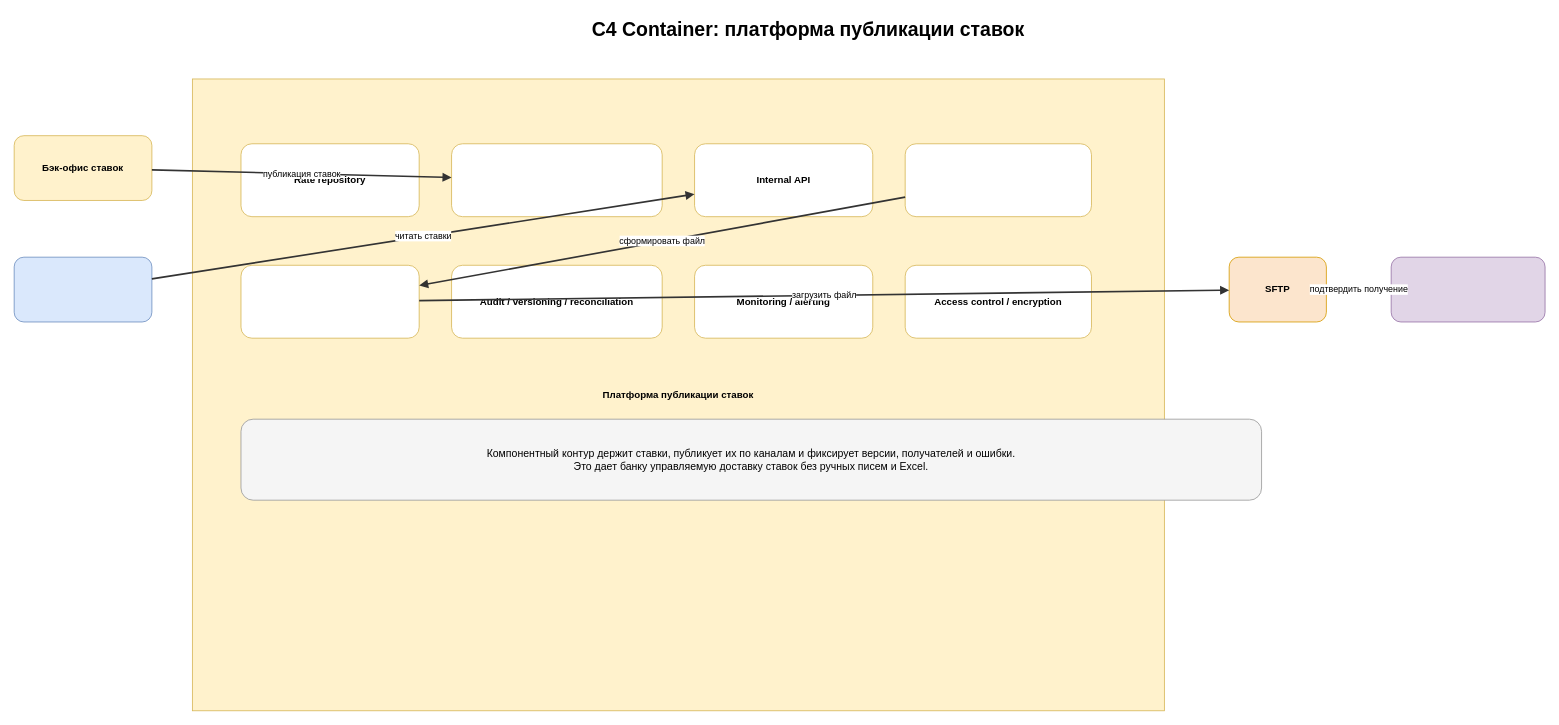
The diagram is 1559 pixels wide and 725 high, and some of its shapes have lost their labels. The box of each missing label's shape, as (x1, y1, x2, y2) in pixels:
File export scheduler: (904, 143, 1091, 217)
Ingestion / rate approval adapter: (451, 143, 662, 217)
SFTP publisher: (240, 264, 419, 338)
Внутренний кол-центр: (13, 256, 152, 322)
Партнерский кол-центр: (1390, 256, 1545, 322)
